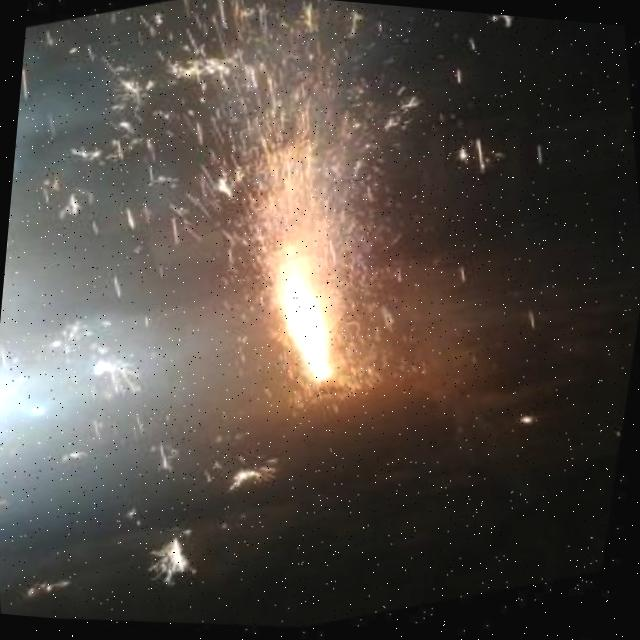fire: (252, 170, 353, 377)
